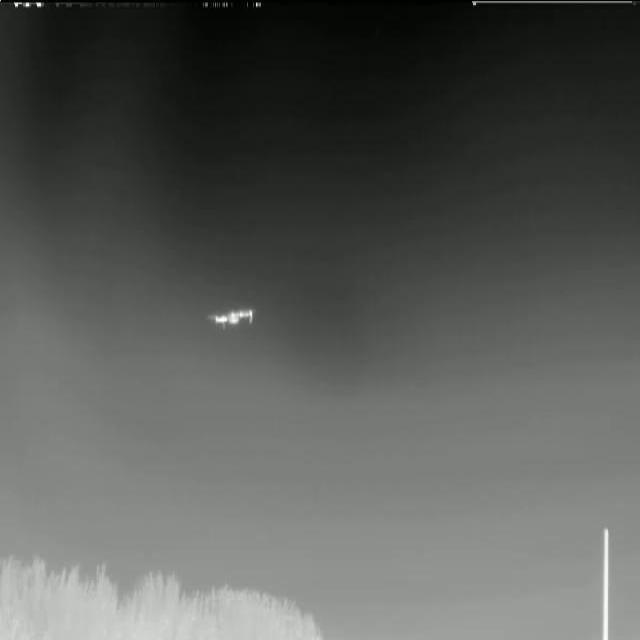DRONE: (200, 295, 263, 339)
